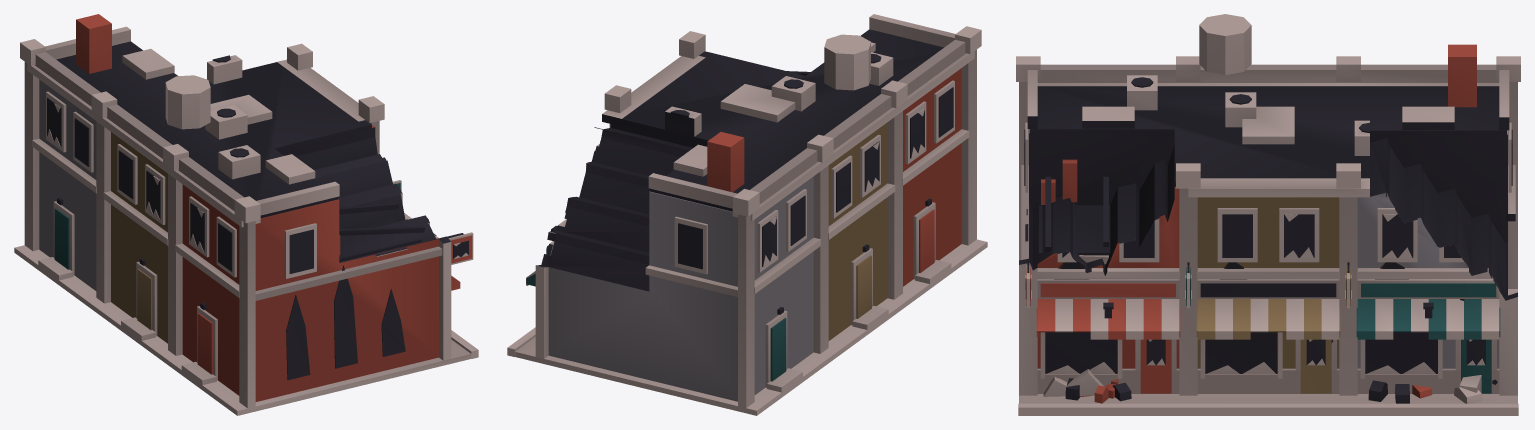
3 renders of one model, left to right at view 1: azimuth 30°, elevation 25°; view 2: azimuth 150°, elevation 25°; view 3: azimuth 270°, elevation 25°, orthographic. The views are drawn at different scales.
Parts seen in each view (by area): view 1: body_pal_sidewalk.002, body_pal_uiDark, body_pal_brick.017, body_pal_khakiSeam, body_pal_pantsLight, body_pal_tealDark; view 2: body_pal_sidewalk.002, body_pal_uiDark, body_pal_pantsLight, body_pal_brick.017, body_pal_khakiSeam, body_pal_tealDark; view 3: body_pal_sidewalk.002, body_pal_uiDark, body_pal_brick.017, body_pal_khakiSeam, body_pal_tealDark, body_pal_pantsLight.
Part boxes in pixels (x1=…): body_pal_sidewalk.002: x1=14, y1=26, x2=478, y2=415; body_pal_uiDark: x1=47, y1=41, x2=468, y2=380; body_pal_brick.017: x1=76, y1=14, x2=472, y2=401; body_pal_khakiSeam: x1=111, y1=132, x2=167, y2=343; body_pal_pantsLight: x1=39, y1=79, x2=96, y2=290; body_pal_tealDark: x1=54, y1=183, x2=400, y2=269; body_pal_sidewalk.002: x1=507, y1=14, x2=987, y2=415; body_pal_uiDark: x1=536, y1=29, x2=953, y2=314; body_pal_pantsLight: x1=548, y1=176, x2=813, y2=401; body_pal_brick.017: x1=707, y1=68, x2=961, y2=286; body_pal_khakiSeam: x1=828, y1=122, x2=887, y2=340; body_pal_tealDark: x1=526, y1=245, x2=786, y2=381; body_pal_sidewalk.002: x1=1016, y1=14, x2=1520, y2=415; body_pal_uiDark: x1=1019, y1=77, x2=1517, y2=403; body_pal_brick.017: x1=1026, y1=44, x2=1476, y2=403; body_pal_khakiSeam: x1=1196, y1=197, x2=1350, y2=393; body_pal_tealDark: x1=1186, y1=267, x2=1500, y2=393; body_pal_pantsLight: x1=1357, y1=130, x2=1507, y2=368.
Size of the model in its own units: 10.1 by 10.14 by 16.4.
